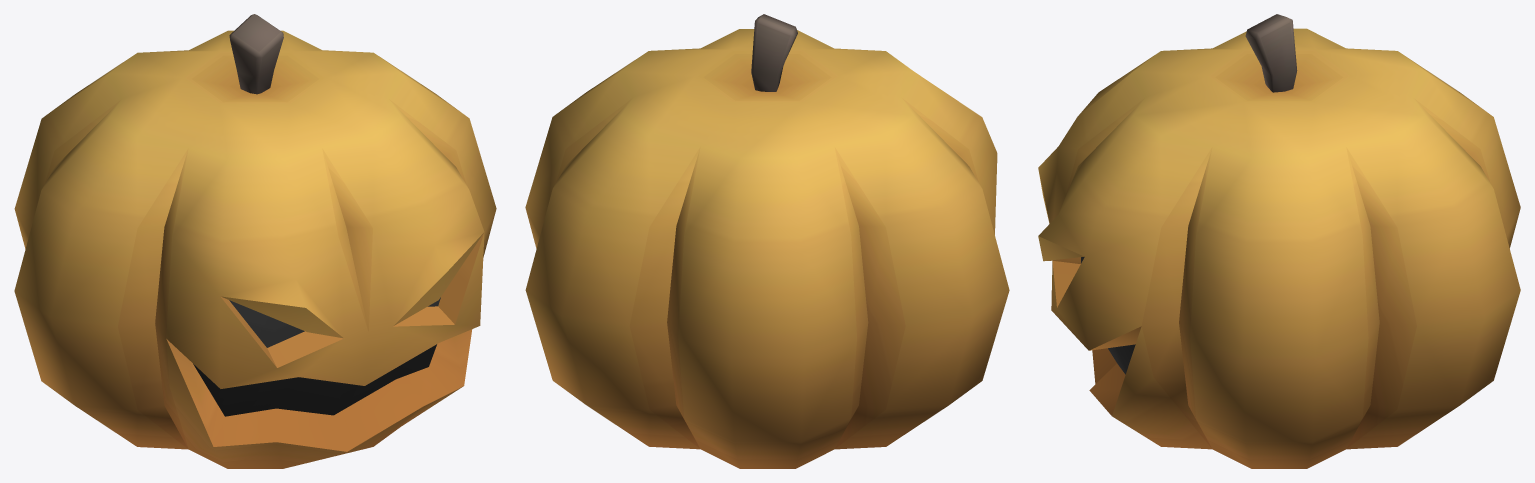
File: jackolantern.glb
3 views of the same model, side by side, from view 1: azimuth 30°, elevation 25°; view 2: azimuth 150°, elevation 25°; view 3: azimuth 270°, elevation 25° (orthographic).
Visible parts, largest first — view 1: pumpkin_yellow_jackolantern; view 2: pumpkin_yellow_jackolantern; view 3: pumpkin_yellow_jackolantern.
Boxes of the visible parts, x1,y1,x2,y2 form: pumpkin_yellow_jackolantern: (14,14,496,468); pumpkin_yellow_jackolantern: (525,14,1009,468); pumpkin_yellow_jackolantern: (1038,14,1520,468).
Size of the model in its own units: 1.5 by 1.3 by 1.4.
Materials: 1 (1 with a texture image).
